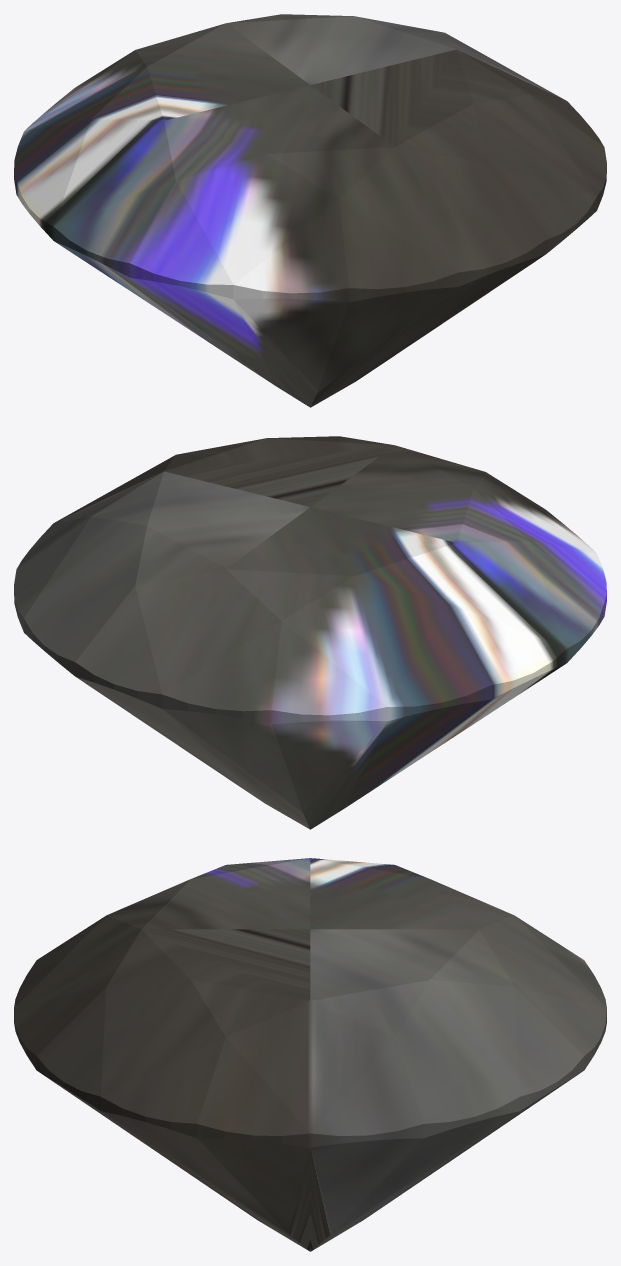
3 renders of one model, top to bottom at view 1: azimuth 30°, elevation 25°; view 2: azimuth 150°, elevation 25°; view 3: azimuth 270°, elevation 25°, orthographic.
Parts seen in each view (by area): view 1: Object_1; view 2: Object_1; view 3: Object_1.
Boxes of the visible parts, x1,y1,x2,y2 form: Object_1: (14, 14, 606, 407); Object_1: (14, 436, 606, 829); Object_1: (14, 858, 606, 1251).
Bounding box in the file's own units: 5.3 × 5.3 × 3.18.
Materials: 1 (1 with a texture image).
